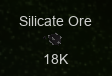Silicate: (18, 15, 94, 66)
